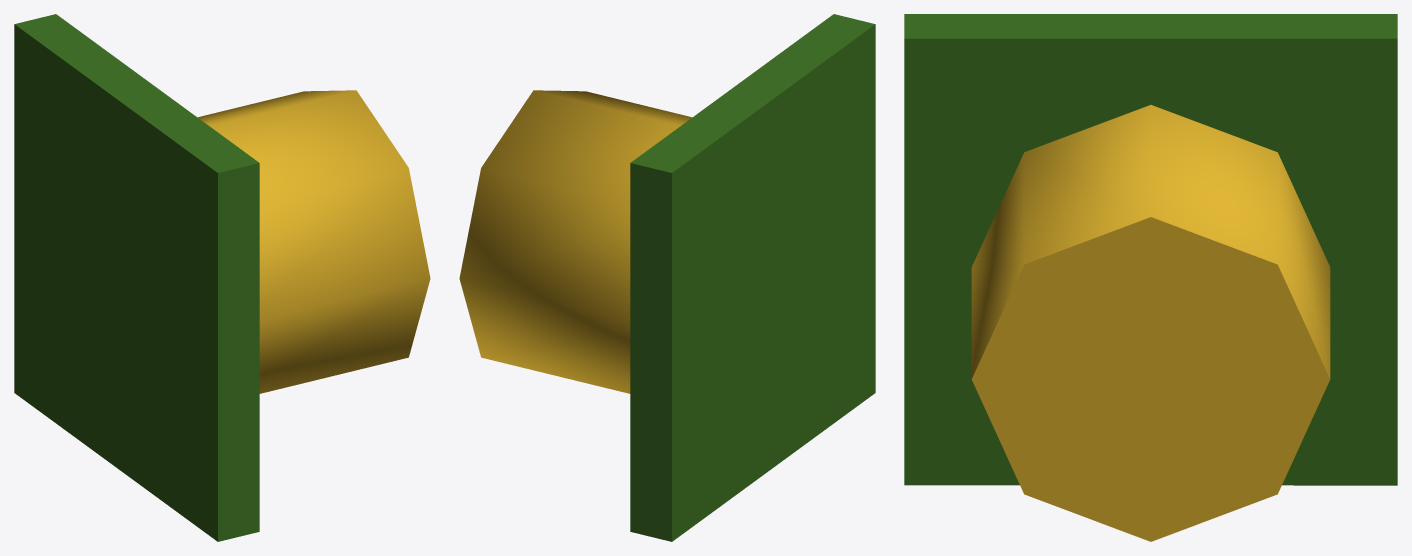
The picture shows the model from 3 angles, left to right: view 1: azimuth 30°, elevation 25°; view 2: azimuth 150°, elevation 25°; view 3: azimuth 270°, elevation 25°; orthographic projection. The views are drawn at different scales.
Visible parts, largest first — view 1: Plane; view 2: Plane; view 3: Plane.
Boxes of the visible parts, <box> form: Plane: <box>14,14,430,541</box>; Plane: <box>459,14,875,541</box>; Plane: <box>904,14,1397,541</box>.
Bounding box in the file's own units: 0.015 × 0.022 × 0.022.
